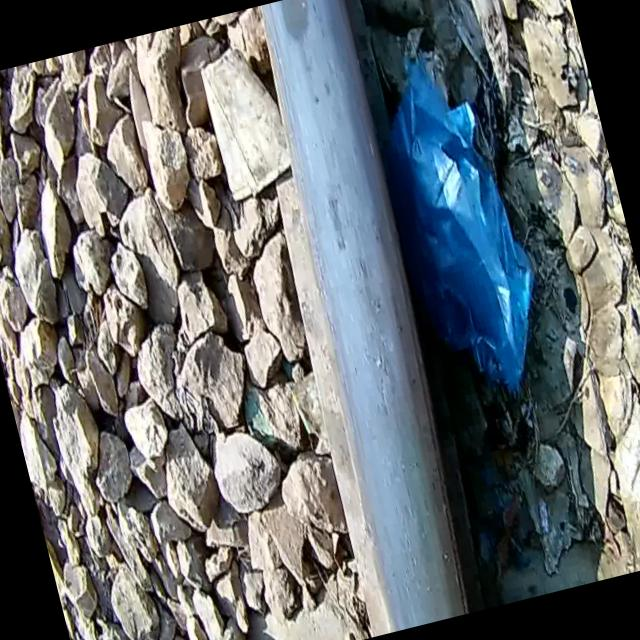Squats: (217, 0, 517, 637)
